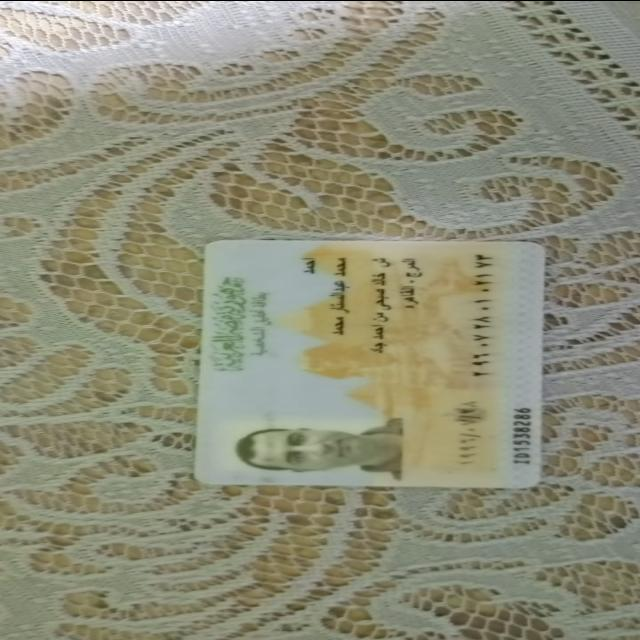id_card: (186, 232, 563, 493)
